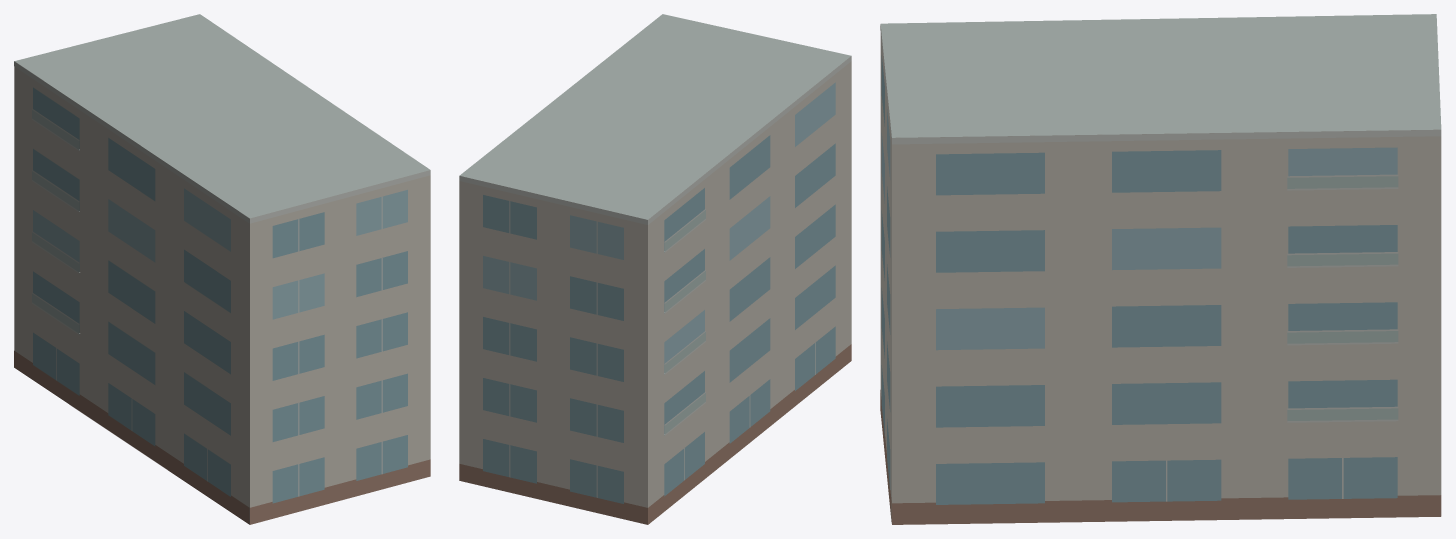
Rendered from survey-upis-32577625.glb.
The picture shows the model from 3 angles, left to right: view 1: azimuth 30°, elevation 25°; view 2: azimuth 150°, elevation 25°; view 3: azimuth 270°, elevation 25°; orthographic projection. The views are drawn at different scales.
Parts seen in each view (by area): view 1: survey-upis-32577625.tmp; view 2: survey-upis-32577625.tmp; view 3: survey-upis-32577625.tmp.
Boxes of the visible parts, box(x1,y1,x2,y2) form: survey-upis-32577625.tmp: box(14, 14, 430, 524); survey-upis-32577625.tmp: box(459, 14, 851, 524); survey-upis-32577625.tmp: box(880, 14, 1441, 524).
Size of the model in its own units: 9.86 by 14.35 by 18.86.
